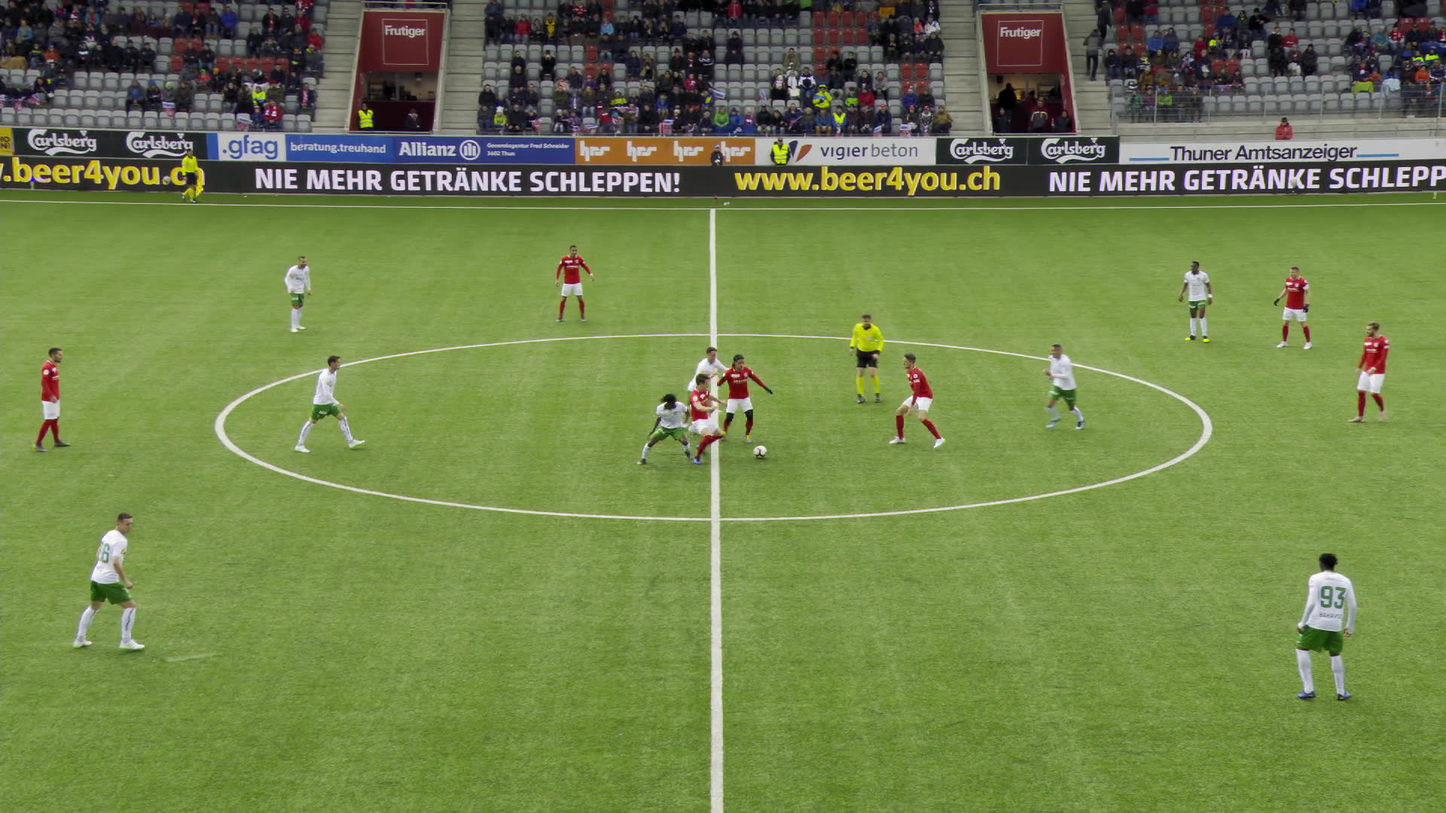ball: (752, 446, 764, 457)
player: (72, 506, 148, 653), (1293, 553, 1358, 702), (294, 356, 365, 453), (886, 350, 944, 450), (710, 356, 773, 446), (1349, 320, 1393, 424), (1040, 343, 1090, 431), (33, 347, 72, 452), (638, 394, 692, 467), (688, 373, 730, 464), (687, 346, 727, 434), (1273, 265, 1313, 350), (554, 244, 593, 323), (1179, 260, 1214, 344), (283, 255, 312, 333)
referee: (847, 316, 890, 406), (179, 149, 205, 203)
